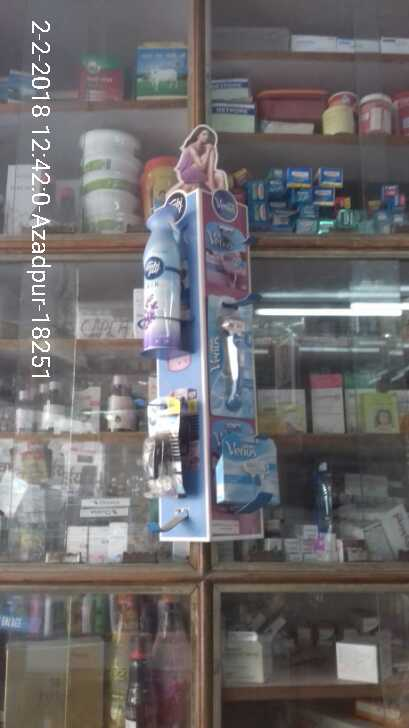beauty: (203, 290, 258, 418), (214, 426, 286, 504)
home: (137, 194, 185, 347), (138, 391, 191, 492)
